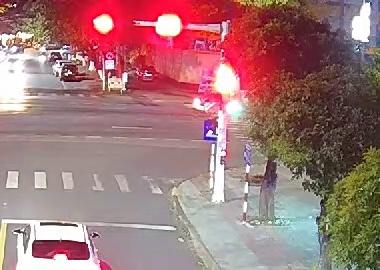red_light: (153, 12, 183, 40), (89, 10, 120, 37)
stop_line: (3, 219, 175, 230)
